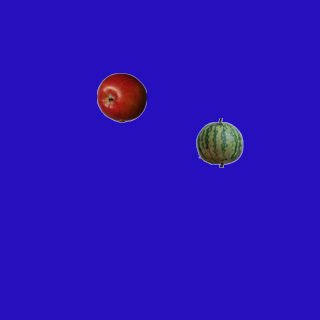Apple Braeburn: (96, 72, 146, 122)
Watermelon: (194, 117, 244, 167)
